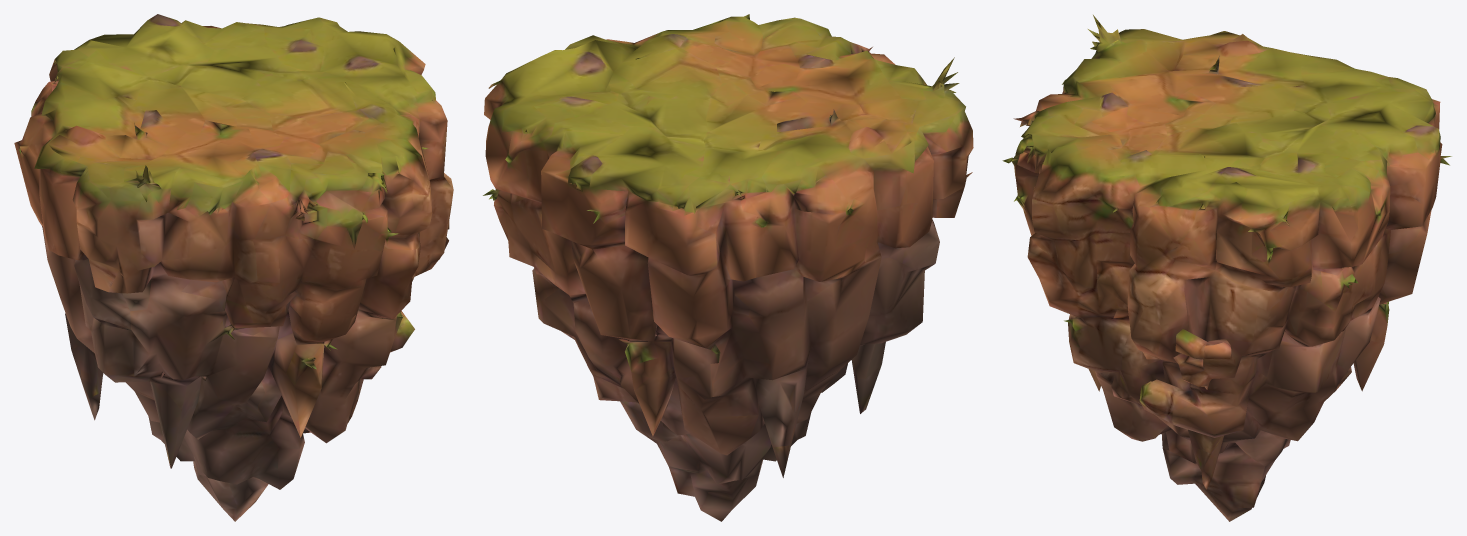
File: cliff-c.glb
3 views of the same model, side by side, from view 1: azimuth 30°, elevation 25°; view 2: azimuth 150°, elevation 25°; view 3: azimuth 270°, elevation 25° (orthographic). The views are drawn at different scales.
Visible parts, largest first — view 1: tripo_node_845e6dbf-5400-41ed-a698-73587d4920f1; view 2: tripo_node_845e6dbf-5400-41ed-a698-73587d4920f1; view 3: tripo_node_845e6dbf-5400-41ed-a698-73587d4920f1.
Boxes of the visible parts, x1=… form: tripo_node_845e6dbf-5400-41ed-a698-73587d4920f1: x1=14, y1=14, x2=453, y2=521; tripo_node_845e6dbf-5400-41ed-a698-73587d4920f1: x1=483, y1=14, x2=973, y2=521; tripo_node_845e6dbf-5400-41ed-a698-73587d4920f1: x1=1002, y1=15, x2=1451, y2=521.
Bounding box in the file's own units: 0.9283 × 0.9765 × 0.9213.
1 material, 1 textured.
